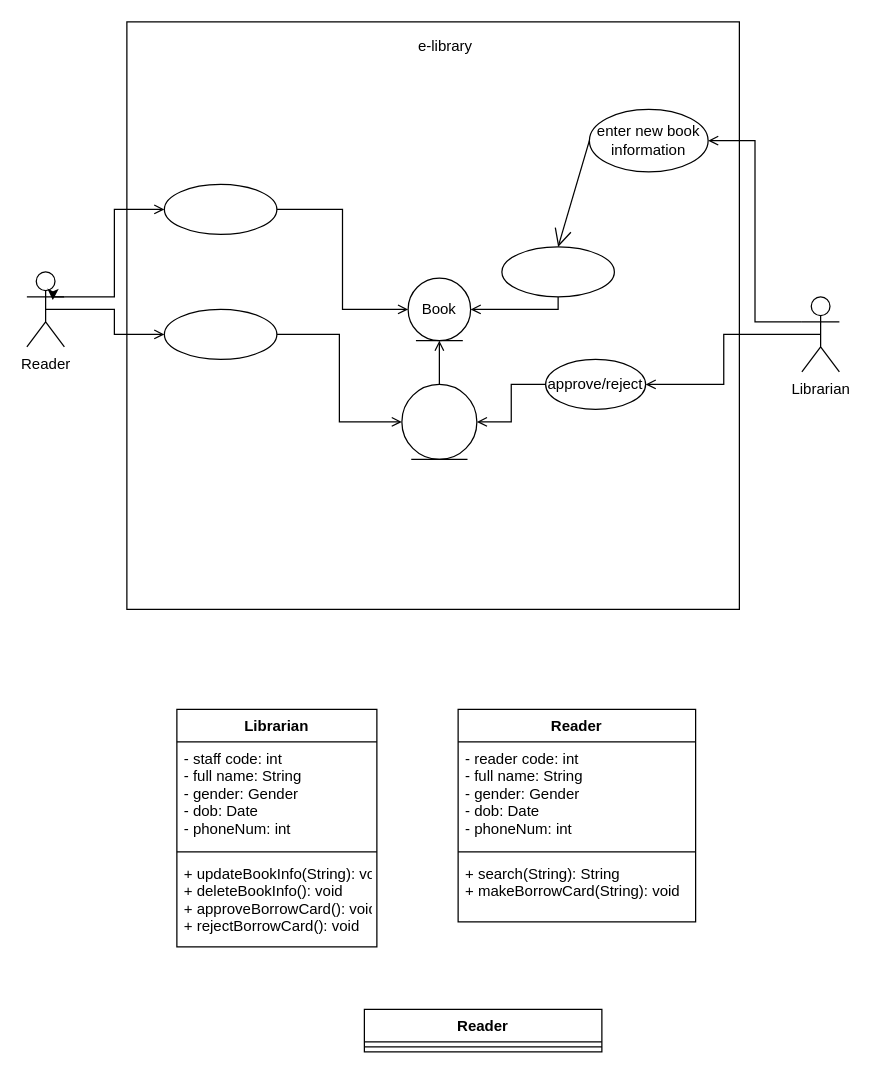
Some shapes in this 871 by 1074 pixel diagram are drawn without their labels. Each missing label, with the centre of its shape:
borrow card: the point at 439,421
enter info: the point at 220,333
Search book: the point at 220,208
update/delete: the point at 557,271
